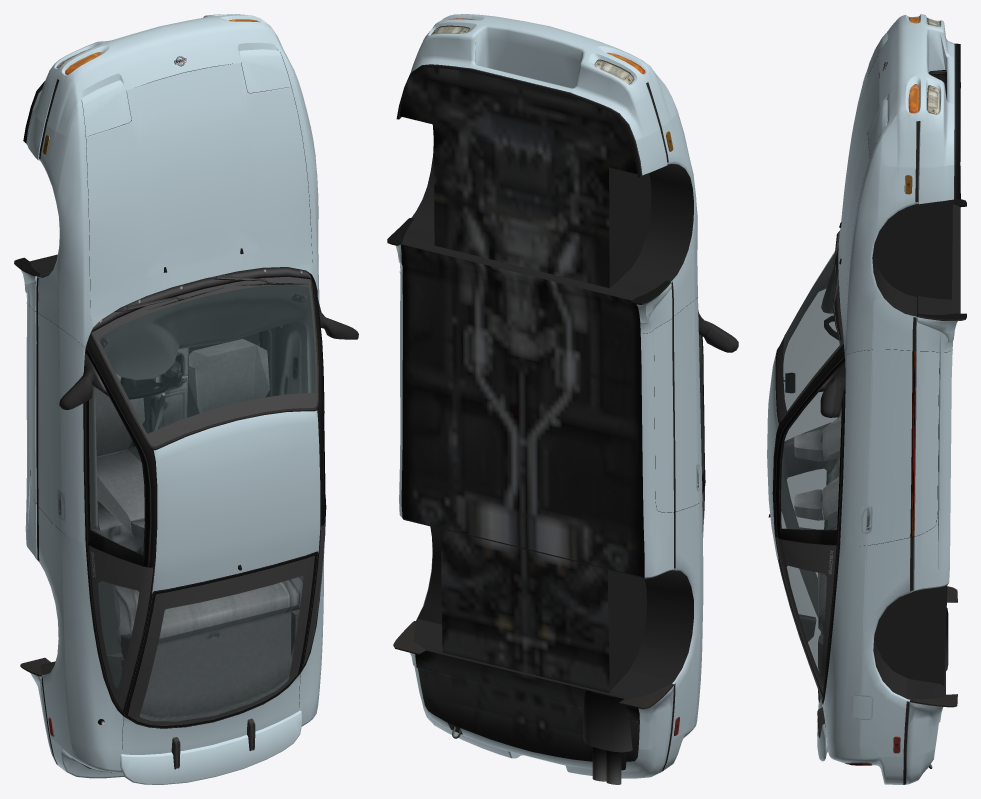
File: Nissan240sx.obj
3 renders of one model, left to right at view 1: azimuth 30°, elevation 25°; view 2: azimuth 150°, elevation 25°; view 3: azimuth 270°, elevation 25°, orthographic. The views are drawn at different scales.
Visible parts, largest first — view 1: 240sx; view 2: 240sx; view 3: 240sx.
Boxes of the visible parts, x1=… form: 240sx: x1=14, y1=14, x2=358, y2=784; 240sx: x1=387, y1=14, x2=738, y2=784; 240sx: x1=767, y1=14, x2=966, y2=784.
Size of the model in its own units: 1.93 by 4.52 by 1.16.
64 materials, 64 textured.
